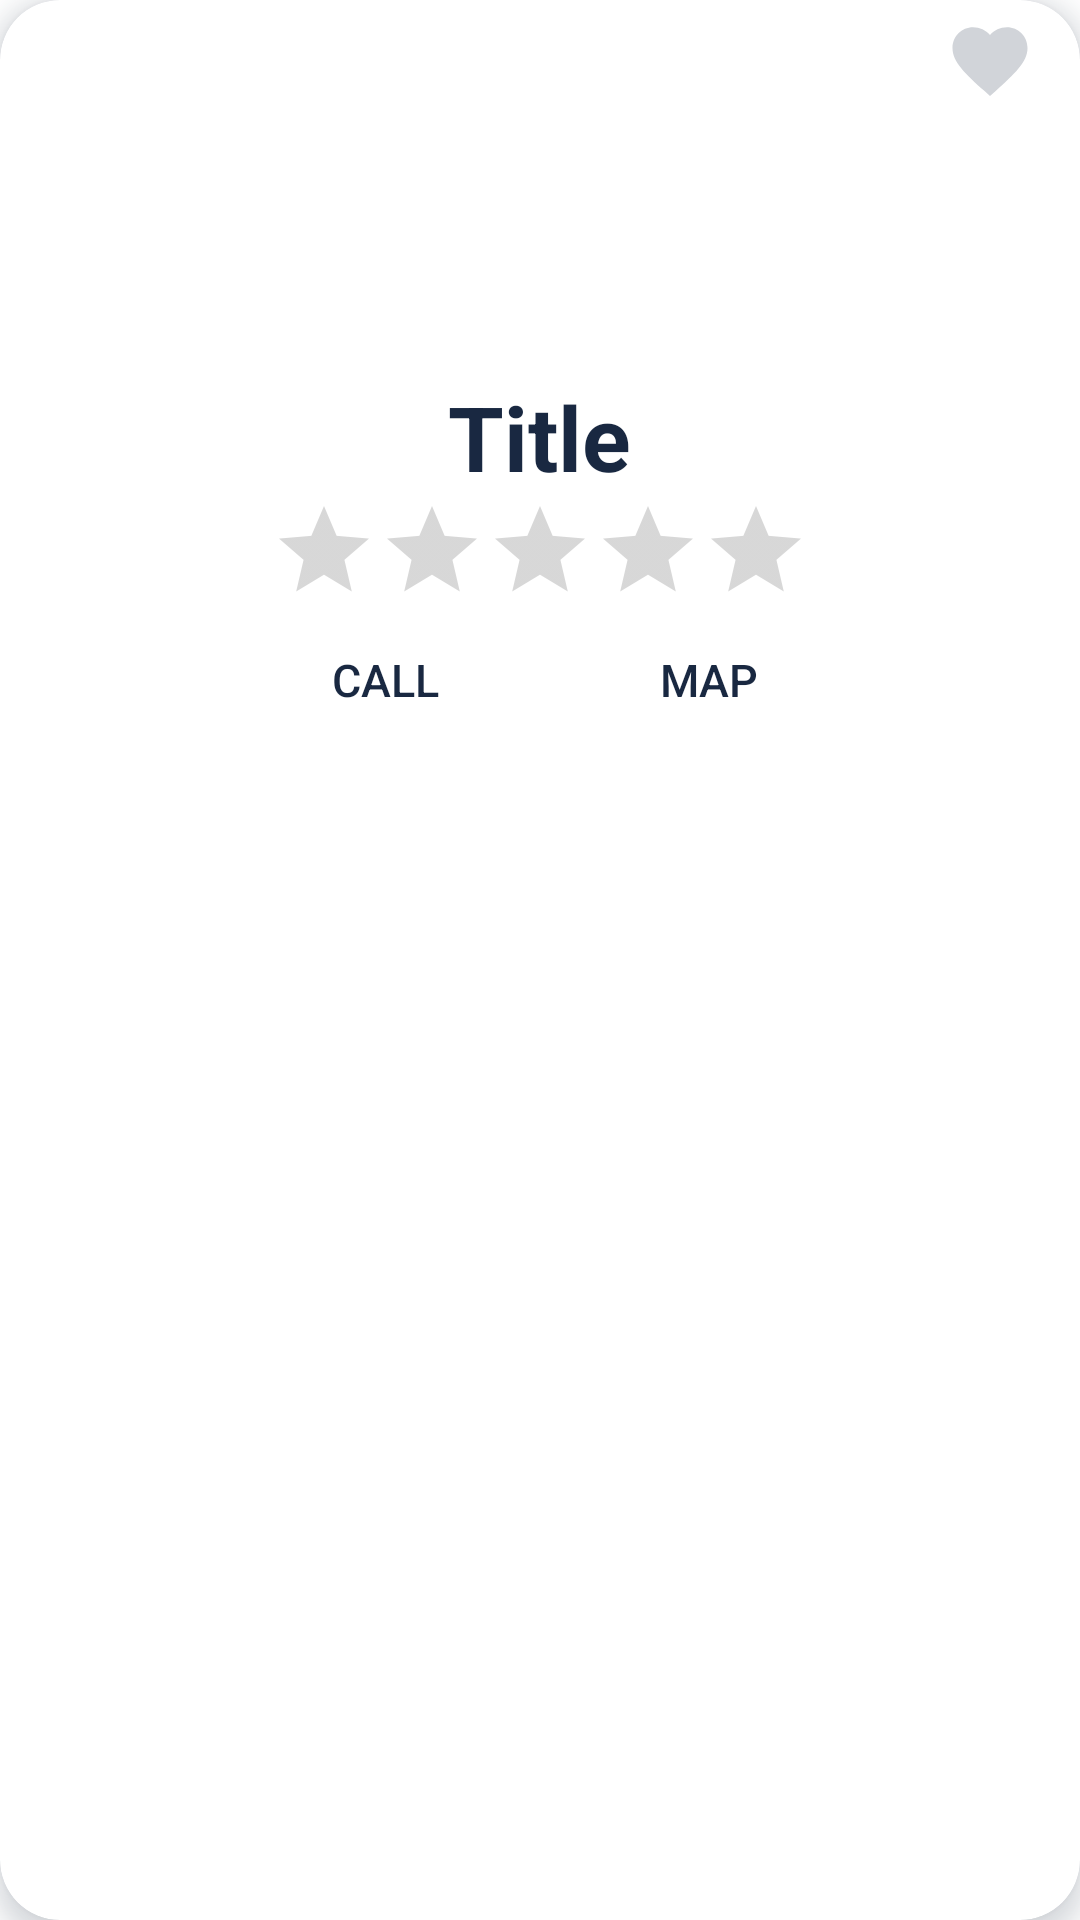

Named icons in this screenshot (1080 × 1920) and their bounding boxes, (x1, y1, x2, y2):
favorite: (953, 27, 1027, 96)
